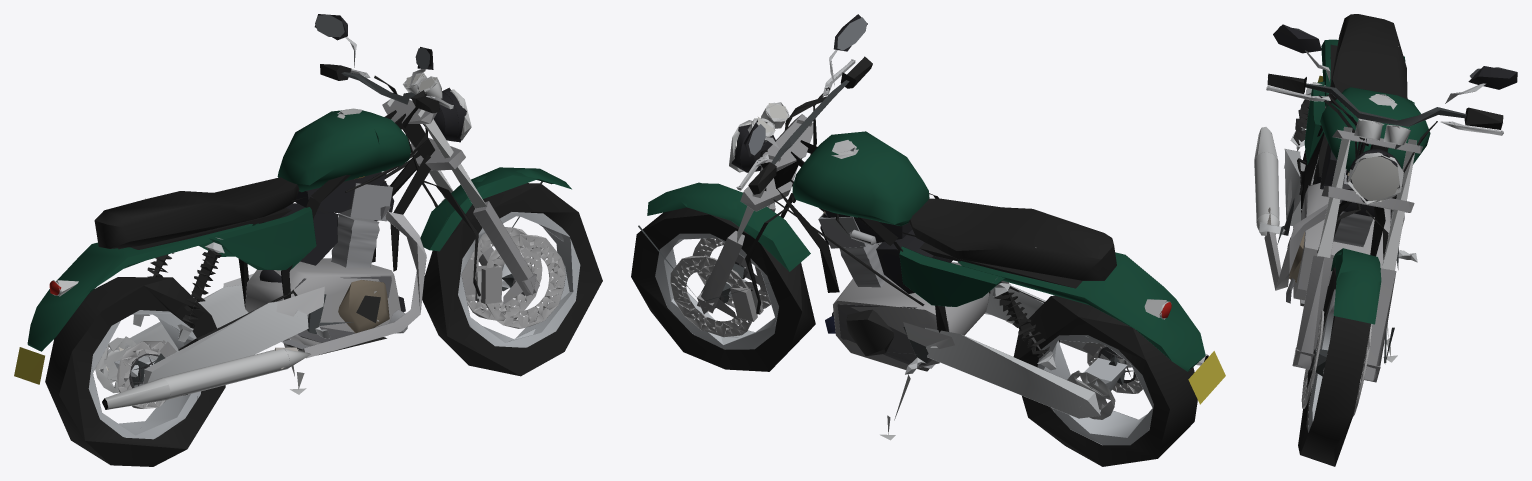
Rendered from SM_Prop_house_bike_3_LOD1.glb.
3 views of the same model, side by side, from view 1: azimuth 30°, elevation 25°; view 2: azimuth 150°, elevation 25°; view 3: azimuth 270°, elevation 25° (orthographic). The views are drawn at different scales.
Visible parts, largest first — view 1: SM_Prop_house_bike_3_LOD1; view 2: SM_Prop_house_bike_3_LOD1; view 3: SM_Prop_house_bike_3_LOD1.
Part boxes in pixels (x1,y1,x2,y2): SM_Prop_house_bike_3_LOD1: (14,14,602,466); SM_Prop_house_bike_3_LOD1: (631,14,1225,466); SM_Prop_house_bike_3_LOD1: (1254,14,1517,466).
Size of the model in its own units: 2.18 by 1.32 by 0.8383.
